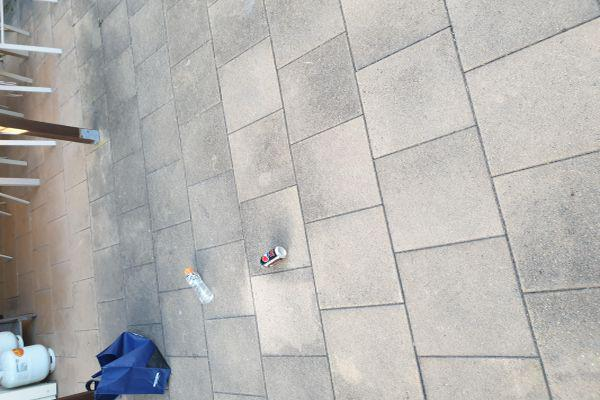Plastic Bottle: (183, 267, 214, 305), (260, 246, 287, 268)
